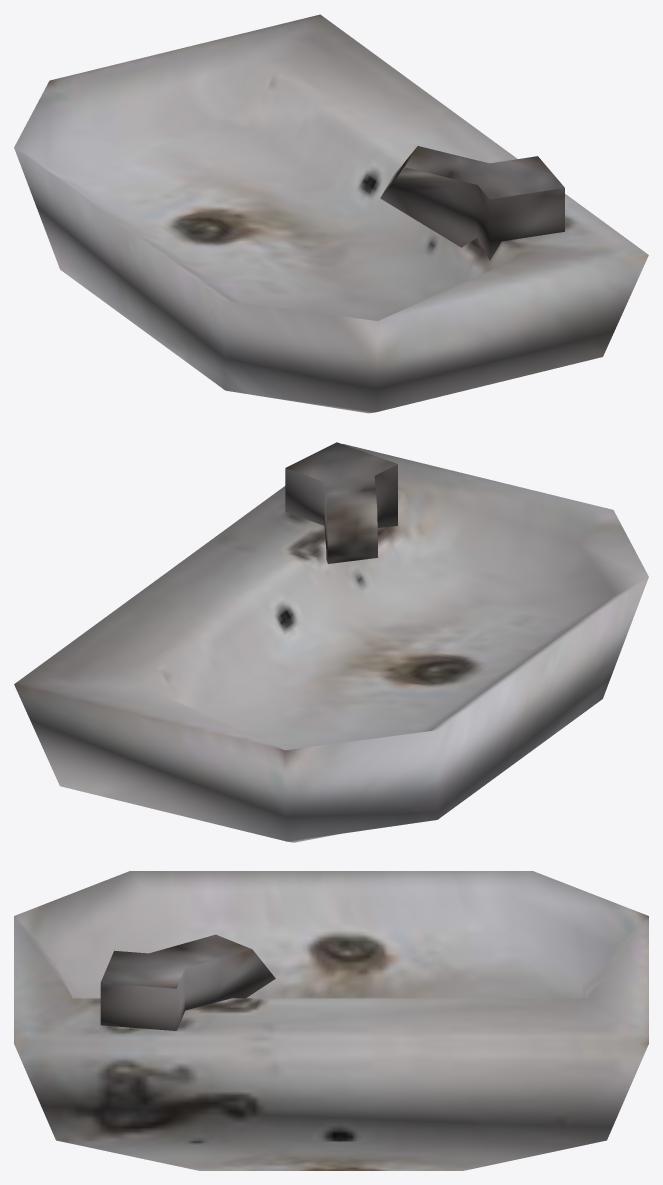
The model's file is SINK.fbx.
The picture shows the model from 3 angles, top to bottom: view 1: azimuth 30°, elevation 25°; view 2: azimuth 150°, elevation 25°; view 3: azimuth 270°, elevation 25°; orthographic projection. The views are drawn at different scales.
Parts seen in each view (by area): view 1: Cube.002; view 2: Cube.002; view 3: Cube.002.
Part boxes in pixels (x1,y1,x2,y2): Cube.002: [14, 14, 648, 413]; Cube.002: [14, 442, 648, 842]; Cube.002: [14, 871, 648, 1170].
Bounding box in the file's own units: 99.76 × 59.55 × 155.
Materials: 1 (1 with a texture image).
